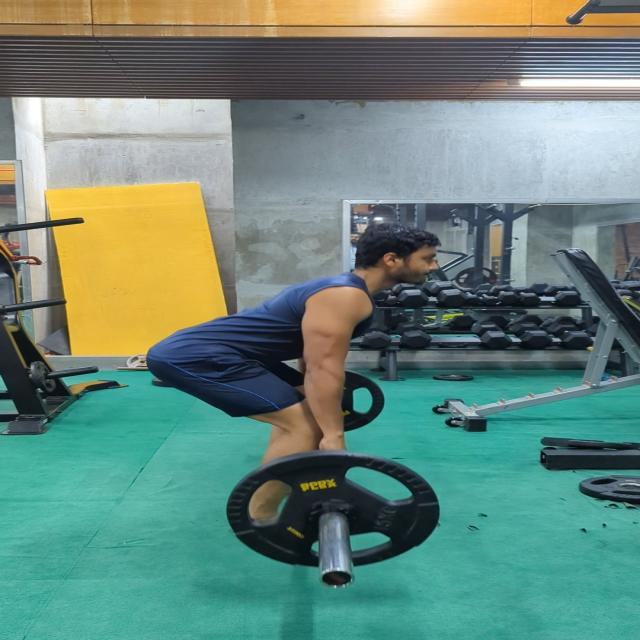Normal_Deadlifts: (141, 222, 450, 531)
